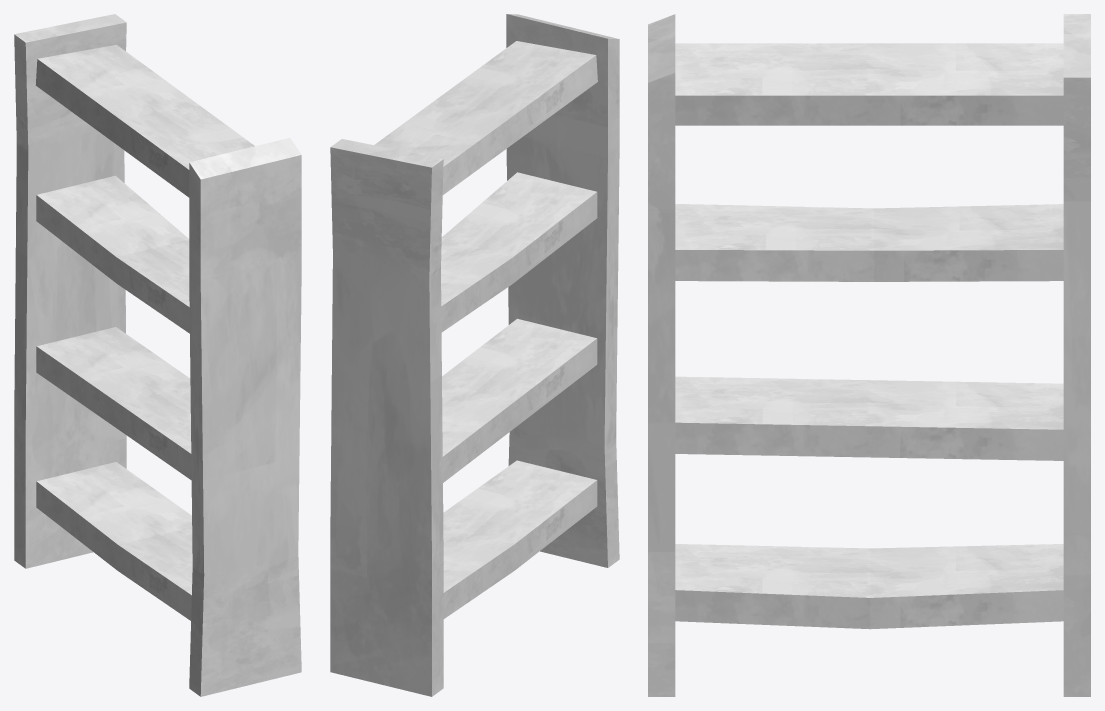
File: Book_shelf.fbx
The picture shows the model from 3 angles, left to right: view 1: azimuth 30°, elevation 25°; view 2: azimuth 150°, elevation 25°; view 3: azimuth 270°, elevation 25°; orthographic projection. The views are drawn at different scales.
Parts seen in each view (by area): view 1: polySurface221; view 2: polySurface221; view 3: polySurface221.
Part boxes in pixels (left/top/right/bottom): polySurface221: left=14, top=14, right=301, bottom=696; polySurface221: left=330, top=14, right=619, bottom=696; polySurface221: left=648, top=14, right=1090, bottom=696.
Bounding box in the file's own units: 67.2 × 334 × 215.
